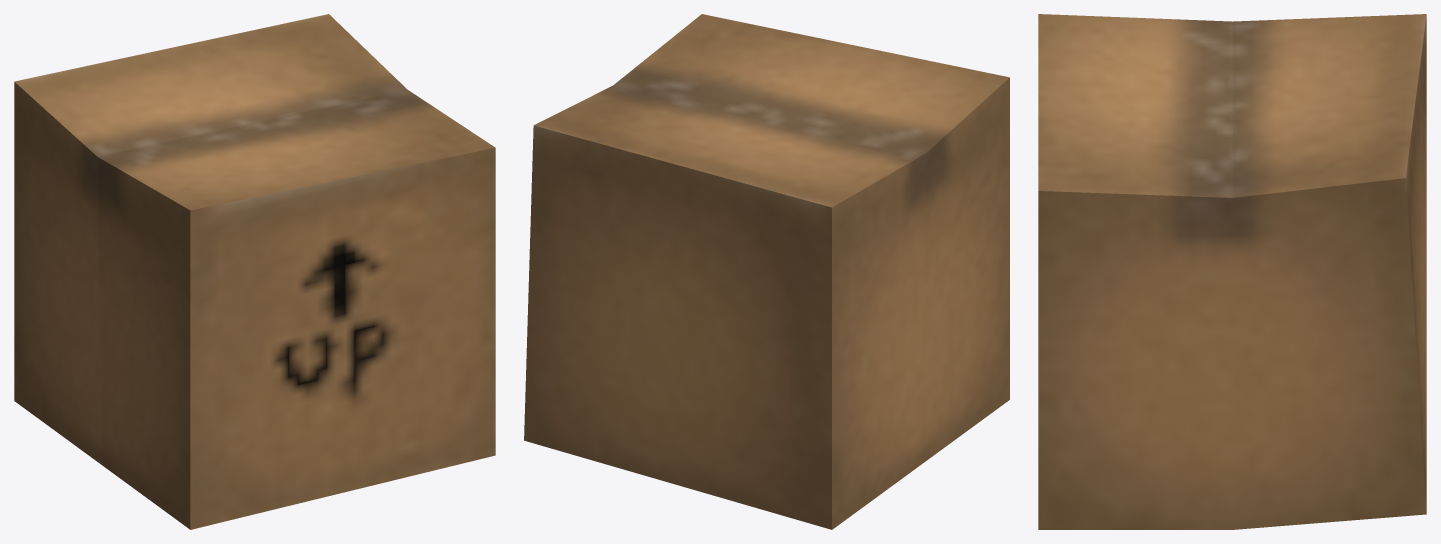
File: cardboard_box.fbx
3 renders of one model, left to right at view 1: azimuth 30°, elevation 25°; view 2: azimuth 150°, elevation 25°; view 3: azimuth 270°, elevation 25°, orthographic. The views are drawn at different scales.
Parts seen in each view (by area): view 1: Cardoboard-Box; view 2: Cardoboard-Box; view 3: Cardoboard-Box.
Boxes of the visible parts, bbox=[...] form: Cardoboard-Box: bbox=[14, 14, 495, 529]; Cardoboard-Box: bbox=[524, 14, 1009, 529]; Cardoboard-Box: bbox=[1038, 14, 1426, 529].
Size of the model in its own units: 50.95 by 50.11 by 50.11.
